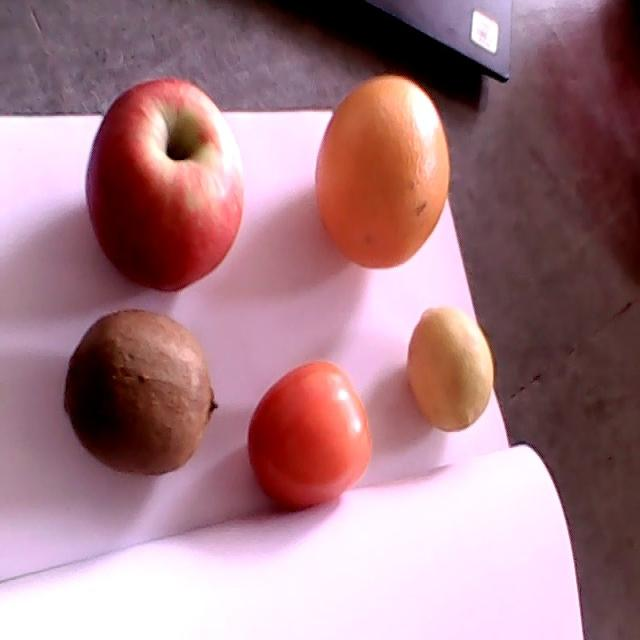apple: (87, 80, 245, 291)
kiwi: (64, 311, 219, 476)
lemon: (408, 308, 495, 433)
orange: (316, 76, 450, 269)
tomato: (248, 362, 372, 510)
